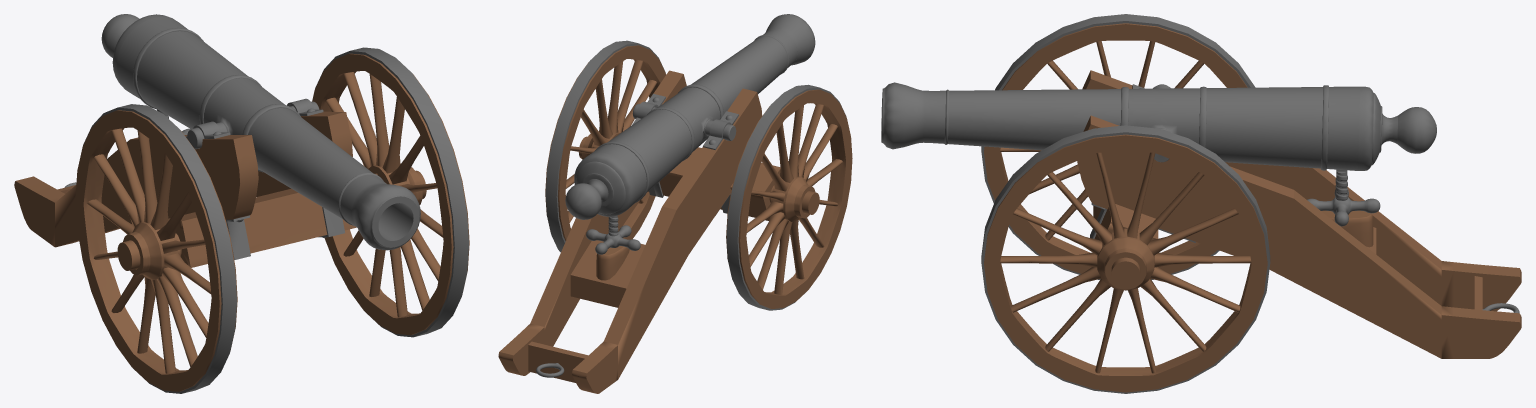
The model's file is civil-war-cannon.fbx.
The picture shows the model from 3 angles, left to right: view 1: azimuth 30°, elevation 25°; view 2: azimuth 150°, elevation 25°; view 3: azimuth 270°, elevation 25°; orthographic projection. The views are drawn at different scales.
Parts seen in each view (by area): view 1: Object_6, Object_4, Object_7, Object_5, Object_2; view 2: Object_6, Object_4, Object_7, Object_5, Object_2, Object_3; view 3: Object_6, Object_4, Object_5, Object_7, Object_2, Object_3.
Part boxes in pixels (x1,y1,x2,y2): Object_6: (14,53,469,391); Object_4: (117,17,420,250); Object_7: (64,47,468,393); Object_5: (130,116,332,219); Object_2: (101,14,419,247); Object_6: (499,45,852,393); Object_4: (576,14,815,214); Object_7: (536,40,846,377); Object_5: (498,74,762,393); Object_2: (565,29,797,219); Object_3: (586,225,640,254); Object_6: (984,23,1521,392); Object_4: (881,82,1397,170); Object_5: (1077,79,1521,325); Object_7: (981,14,1519,393); Object_2: (881,84,1436,170); Object_3: (1307,189,1380,226).
Size of the model in its own units: 821 by 709 by 1573.
